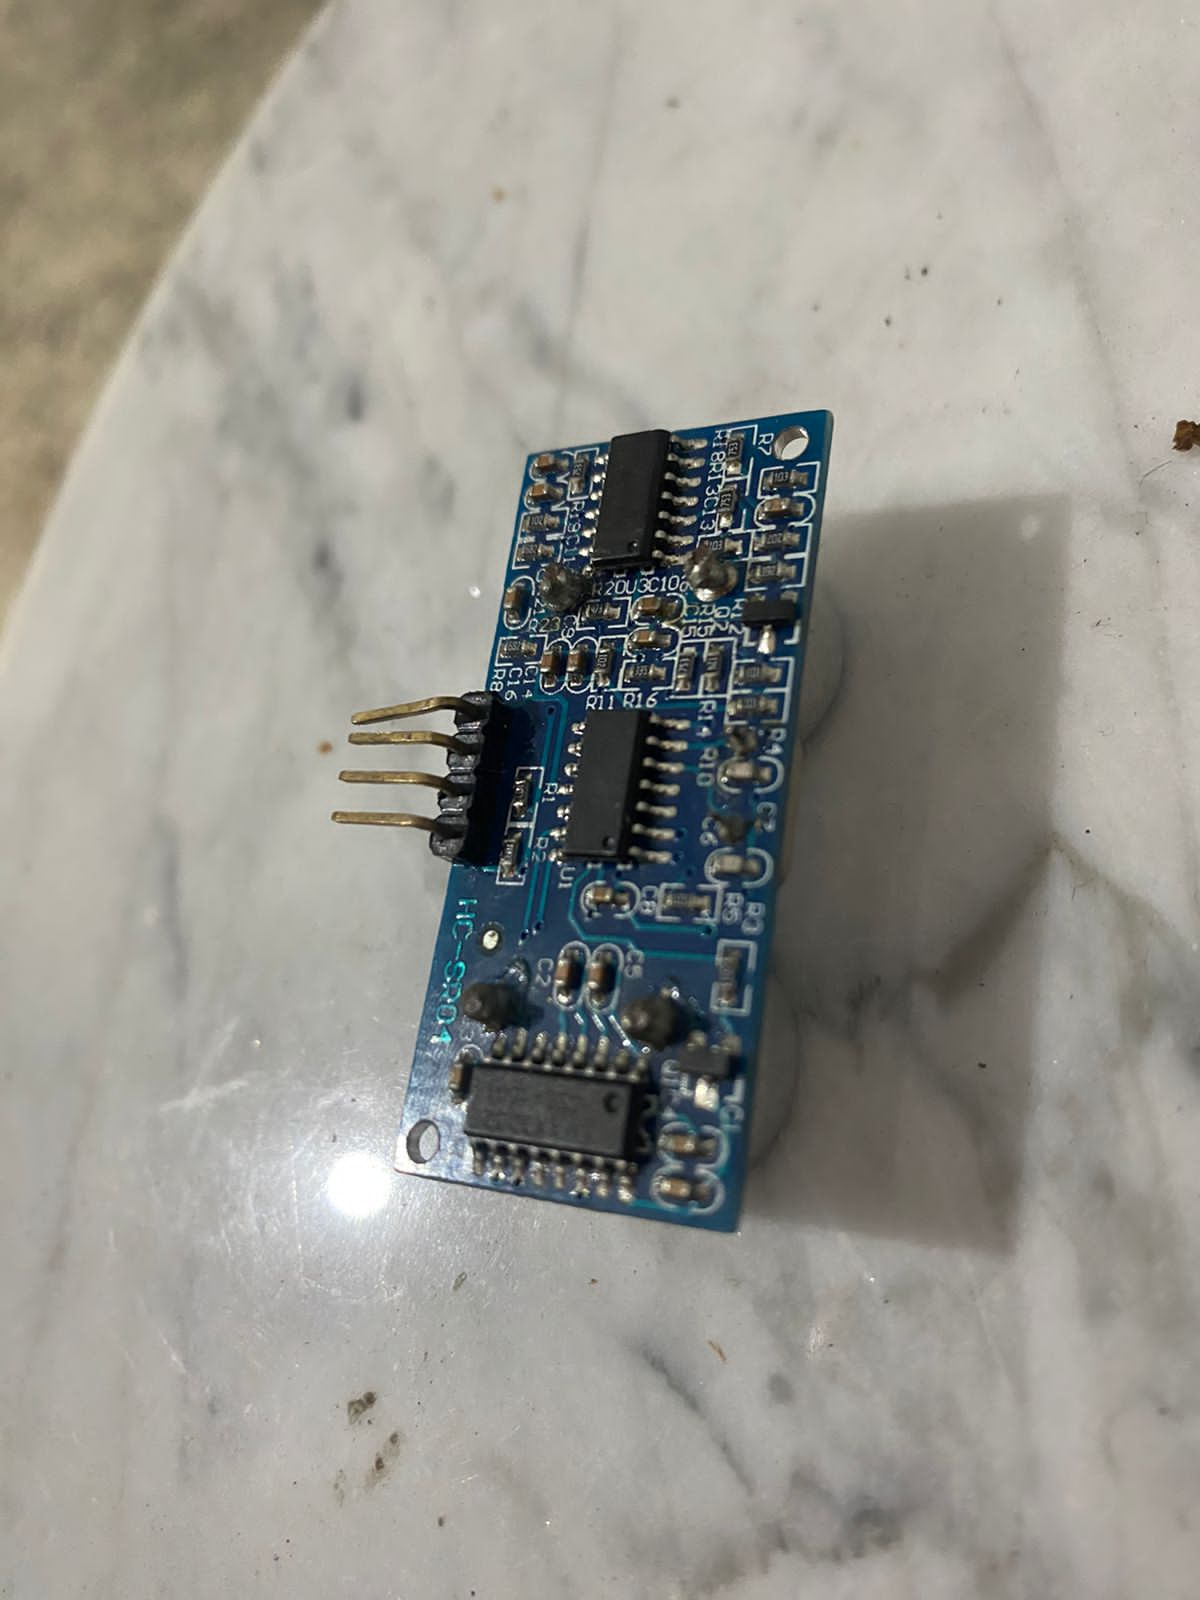capteur-ultrasonique: (326, 382, 868, 1264)
